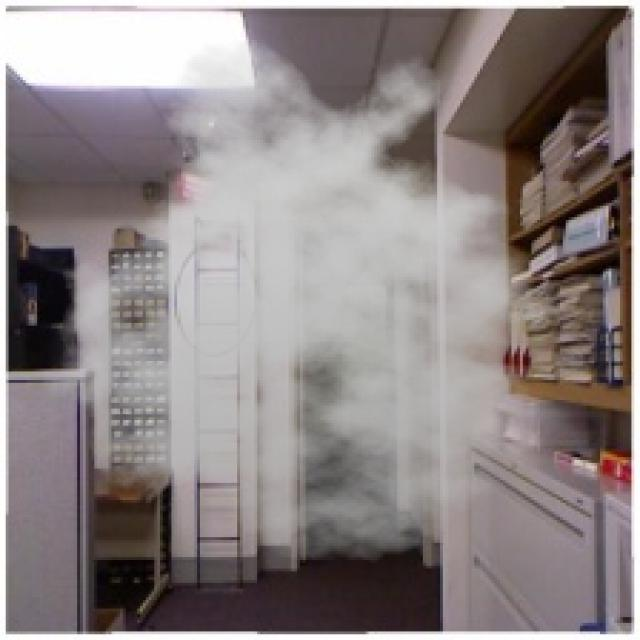smoke: (29, 37, 594, 563)
